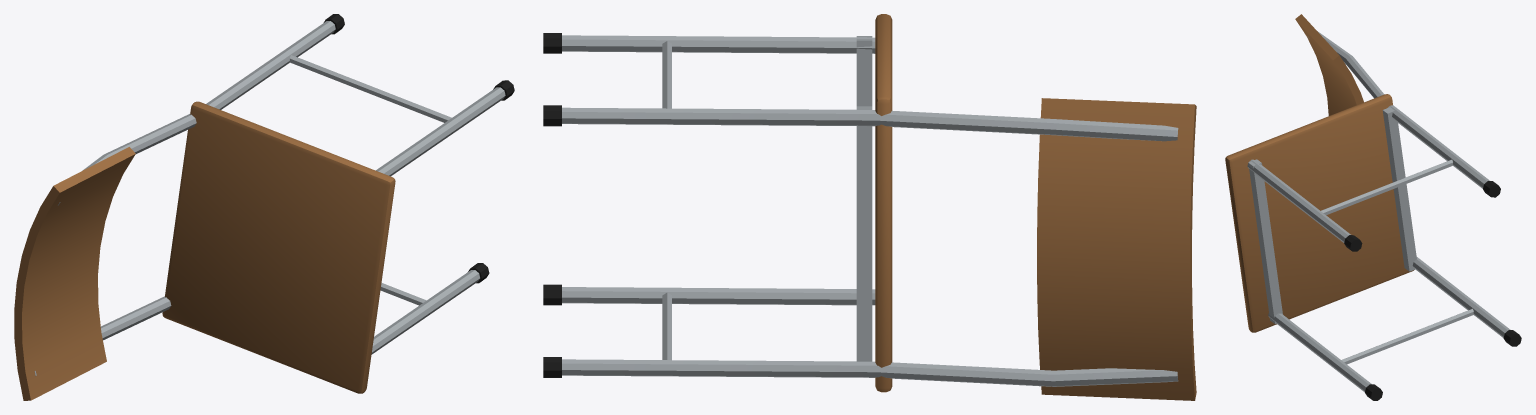
The model's file is chair_fallen.glb.
The picture shows the model from 3 angles, left to right: view 1: azimuth 30°, elevation 25°; view 2: azimuth 150°, elevation 25°; view 3: azimuth 270°, elevation 25°; orthographic projection. The views are drawn at different scales.
Visible parts, largest first — view 1: ChairFallen; view 2: ChairFallen; view 3: ChairFallen.
Boxes of the visible parts, x1,y1,x2,y2 form: ChairFallen: [14, 14, 514, 400]; ChairFallen: [543, 14, 1196, 400]; ChairFallen: [1225, 14, 1521, 400].
Size of the model in its own units: 0.9503 by 0.4523 by 0.5867.
